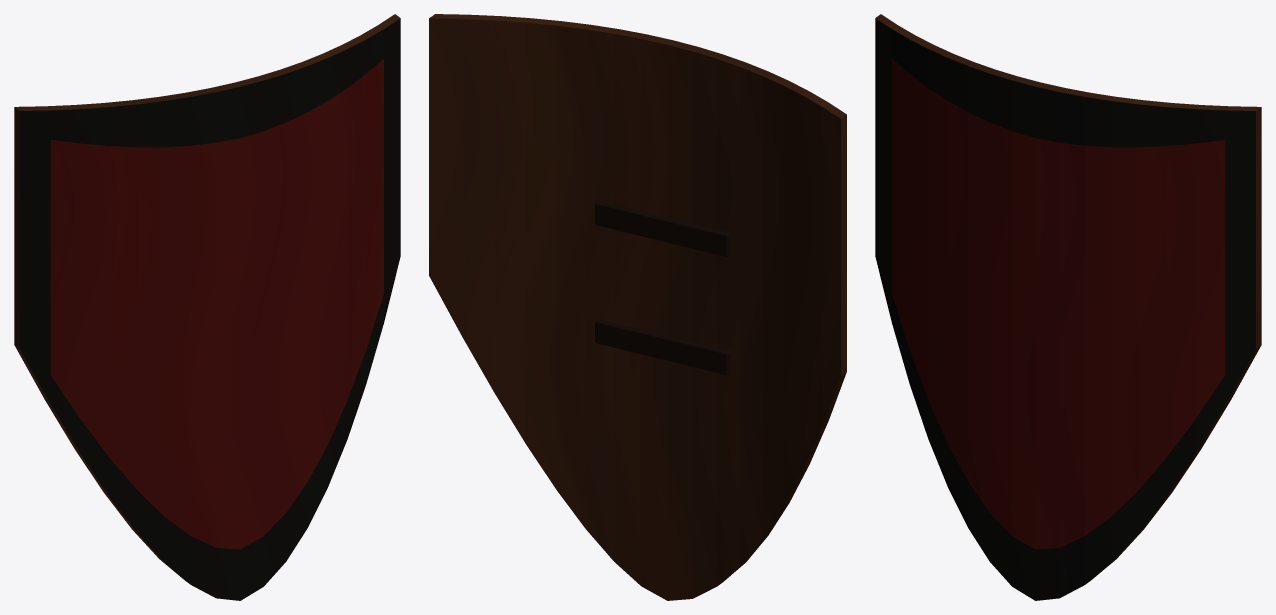
Rendered from heater_shield.glb.
3 views of the same model, side by side, from view 1: azimuth 30°, elevation 25°; view 2: azimuth 150°, elevation 25°; view 3: azimuth 330°, elevation 25° (orthographic). The views are drawn at different scales.
Parts seen in each view (by area): view 1: PaintedBoards; view 2: PaintedBoards, HandEnarme, ArmEnarme; view 3: PaintedBoards.
Boxes of the visible parts, x1,y1,x2,y2 form: PaintedBoards: [14, 14, 400, 600]; PaintedBoards: [429, 14, 846, 600]; HandEnarme: [595, 319, 730, 374]; ArmEnarme: [595, 201, 730, 256]; PaintedBoards: [875, 14, 1261, 600].
Bounding box in the file's own units: 0.62 × 0.8 × 0.101.
4 materials, 4 textured.
